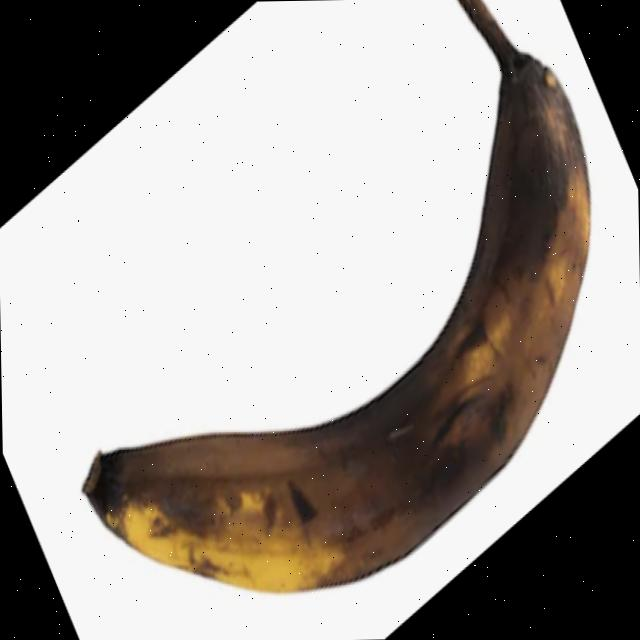Rotten: (73, 0, 595, 596)
